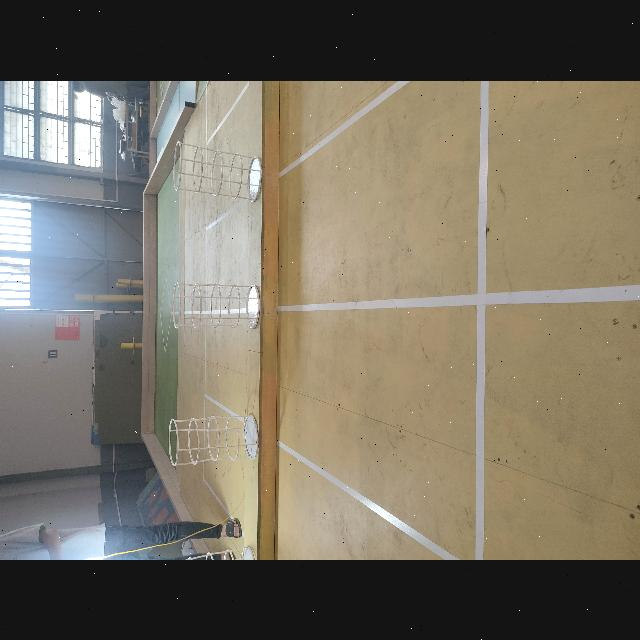S: (172, 140, 262, 202), (168, 413, 260, 469), (170, 282, 260, 330), (169, 542, 257, 560)
